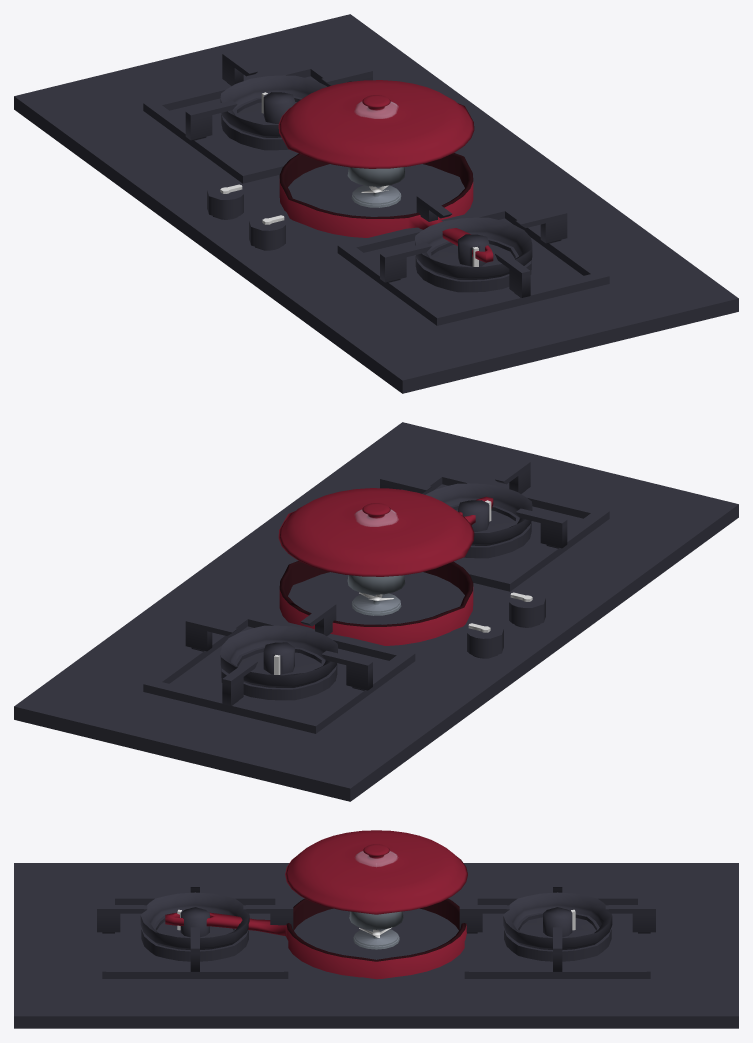
File: Tools.glb
3 views of the same model, one above another, from view 1: azimuth 30°, elevation 25°; view 2: azimuth 150°, elevation 25°; view 3: azimuth 270°, elevation 25° (orthographic). The views are drawn at different scales.
Visible parts, largest first — view 1: Stove, Sauce Pan.001, Sauce Pan, Blender.001, Stove.001, Stove.002, Blender; view 2: Stove, Sauce Pan.001, Sauce Pan, Blender.001, Stove.002, Stove.001, Blender; view 3: Stove, Sauce Pan.001, Sauce Pan, Blender.001, Blender.
Boxes of the visible parts, x1=… form: Stove: x1=14, y1=14, x2=738, y2=393; Sauce Pan.001: x1=278, y1=80, x2=474, y2=168; Sauce Pan: x1=279, y1=153, x2=493, y2=262; Blender.001: x1=347, y1=101, x2=405, y2=186; Stove.001: x1=207, y1=184, x2=243, y2=219; Stove.002: x1=249, y1=215, x2=285, y2=250; Blender: x1=351, y1=185, x2=401, y2=207; Stove: x1=14, y1=422, x2=738, y2=801; Sauce Pan.001: x1=278, y1=488, x2=474, y2=576; Sauce Pan: x1=279, y1=496, x2=493, y2=645; Blender.001: x1=347, y1=509, x2=405, y2=594; Stove.002: x1=509, y1=592, x2=545, y2=627; Stove.001: x1=467, y1=623, x2=503, y2=658; Blender: x1=351, y1=592, x2=401, y2=615; Stove: x1=14, y1=863, x2=738, y2=1028; Sauce Pan.001: x1=285, y1=830, x2=467, y2=914; Sauce Pan: x1=165, y1=898, x2=466, y2=979; Blender.001: x1=349, y1=851, x2=403, y2=929; Blender: x1=353, y1=927, x2=399, y2=949.
Bounding box in the file's own units: 2 × 0.9157 × 4.
